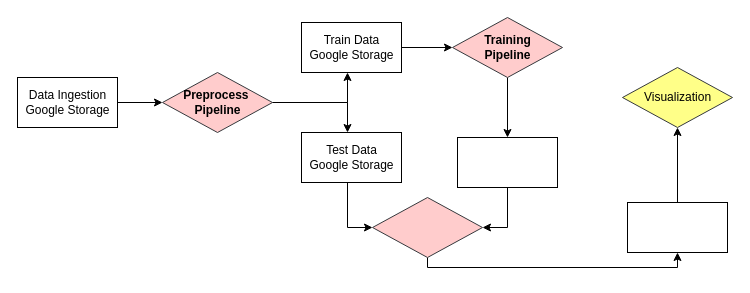
This 750x293 diagram has some shape labels left out. Here are the shapes that lost their labels. From the top down, the box of each, then its label:
(456, 136, 558, 188): Model Storage Google Storage
(372, 196, 482, 258): Prediction Pipeline
(626, 202, 728, 252): Prediction Storage Google Storage
